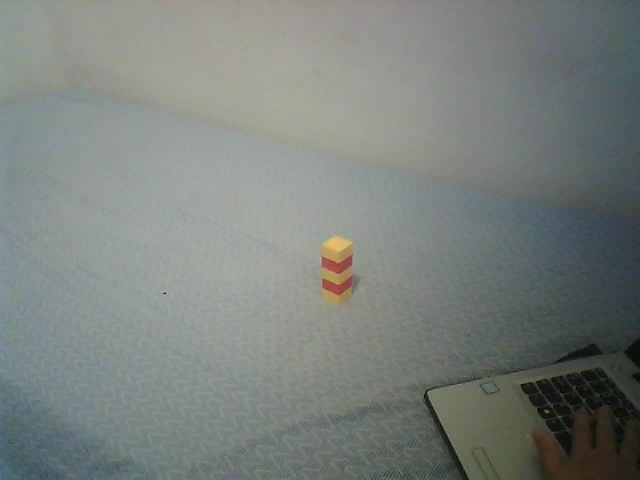lego: (319, 235, 353, 305)
